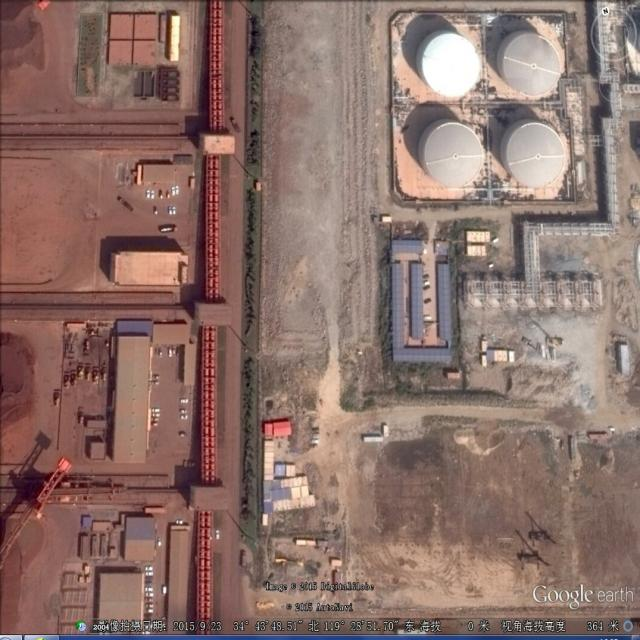oiltank: (415, 116, 489, 195), (496, 115, 568, 191), (413, 30, 485, 103), (493, 27, 564, 99)
